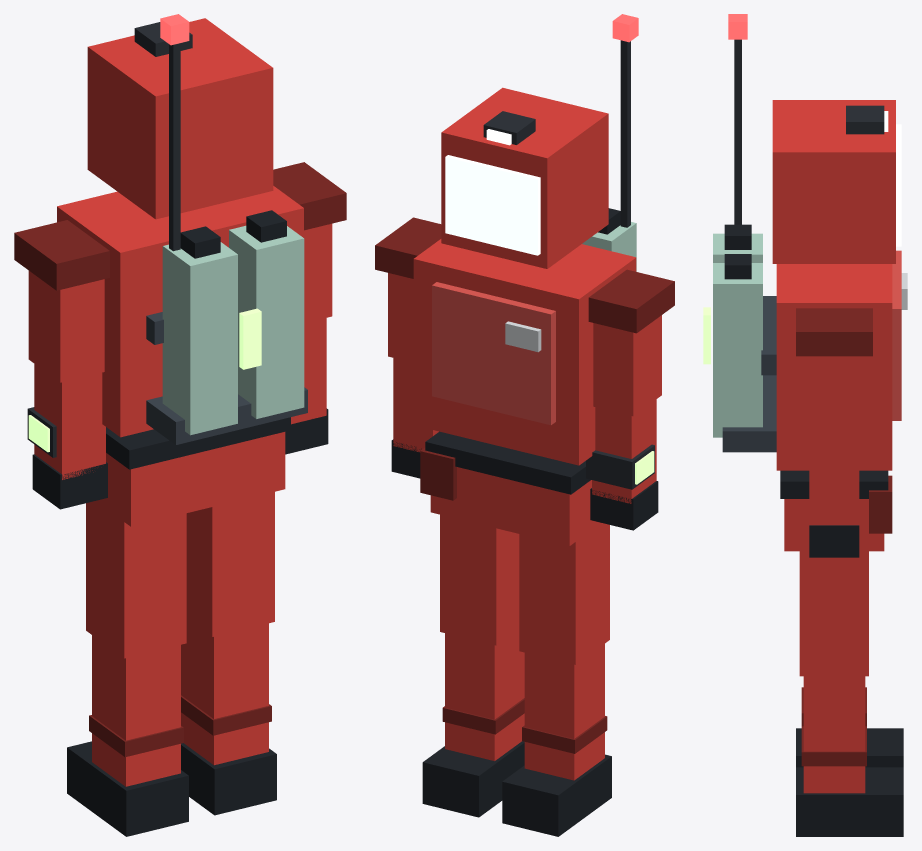
Rendered from bio_tech_red.glb.
The picture shows the model from 3 angles, left to right: view 1: azimuth 30°, elevation 25°; view 2: azimuth 150°, elevation 25°; view 3: azimuth 270°, elevation 25°; orthographic projection. The views are drawn at different scales.
Visible parts, largest first — view 1: Merged6, Merged, Merged7, Merged8, Merged9, _MeshInstance3D_2711, Merged3, _MeshInstance3D_2722, Merged2, Merged5, Merged4; view 2: Merged6, Merged, Merged7, Merged8, Merged9, _MeshInstance3D_2711, Merged3, _MeshInstance3D_2722, Merged2, Merged5, Merged4; view 3: Merged6, Merged, Merged8, Merged5, _MeshInstance3D_2722, Merged4, Merged9, Merged7.
Boxes of the visible parts, x1,y1,x2,y2 form: Merged6: (57,14,307,444); Merged: (87,18,273,219); Merged7: (67,635,188,836); Merged8: (181,618,276,815); Merged9: (96,417,290,526); _MeshInstance3D_2711: (86,501,186,658); Merged3: (14,220,109,382); _MeshInstance3D_2722: (186,492,274,636); Merged2: (27,364,107,509); Merged5: (273,162,346,322); Merged4: (285,318,328,454); Merged6: (413,14,638,465); Merged: (441,87,608,268); Merged7: (502,644,611,836); Merged8: (422,629,524,817); Merged9: (420,431,600,545); _MeshInstance3D_2711: (519,523,609,664); Merged3: (588,269,674,416); _MeshInstance3D_2722: (440,514,519,645); Merged2: (586,399,658,530); Merged5: (375,217,441,362); Merged4: (391,358,438,478); Merged6: (703,14,907,470); Merged: (772,100,901,263); Merged8: (796,676,903,836); Merged5: (796,308,872,441); _MeshInstance3D_2722: (799,551,868,676); Merged4: (809,441,859,557); Merged9: (780,470,892,551); Merged7: (796,687,903,767).
Bounding box in the file's own units: 0.79 × 2.18 × 0.53.
